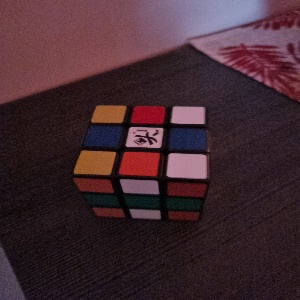cube: (71, 104, 210, 222)
